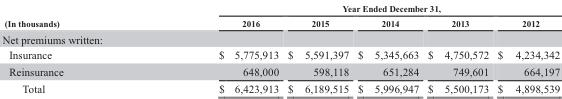table: (1, 1, 559, 95)
table column: (140, 1, 282, 95), (1, 1, 140, 95), (282, 1, 352, 95), (352, 1, 422, 95), (422, 1, 492, 95), (492, 1, 559, 95)
table column header: (1, 1, 559, 30)
table projected row header: (1, 30, 559, 46)
table row: (1, 62, 559, 79), (1, 30, 559, 46), (1, 46, 559, 62), (1, 79, 559, 95), (1, 15, 559, 30), (1, 1, 559, 15)
table spanning cell: (140, 1, 559, 15), (1, 1, 140, 30)
